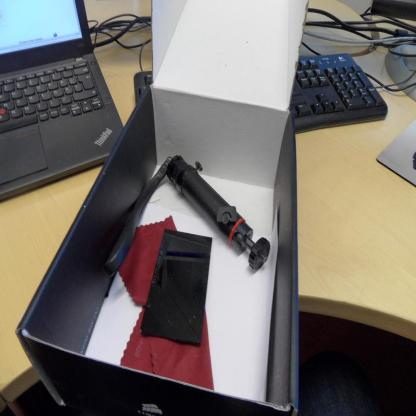board: (0, 0, 126, 202)
